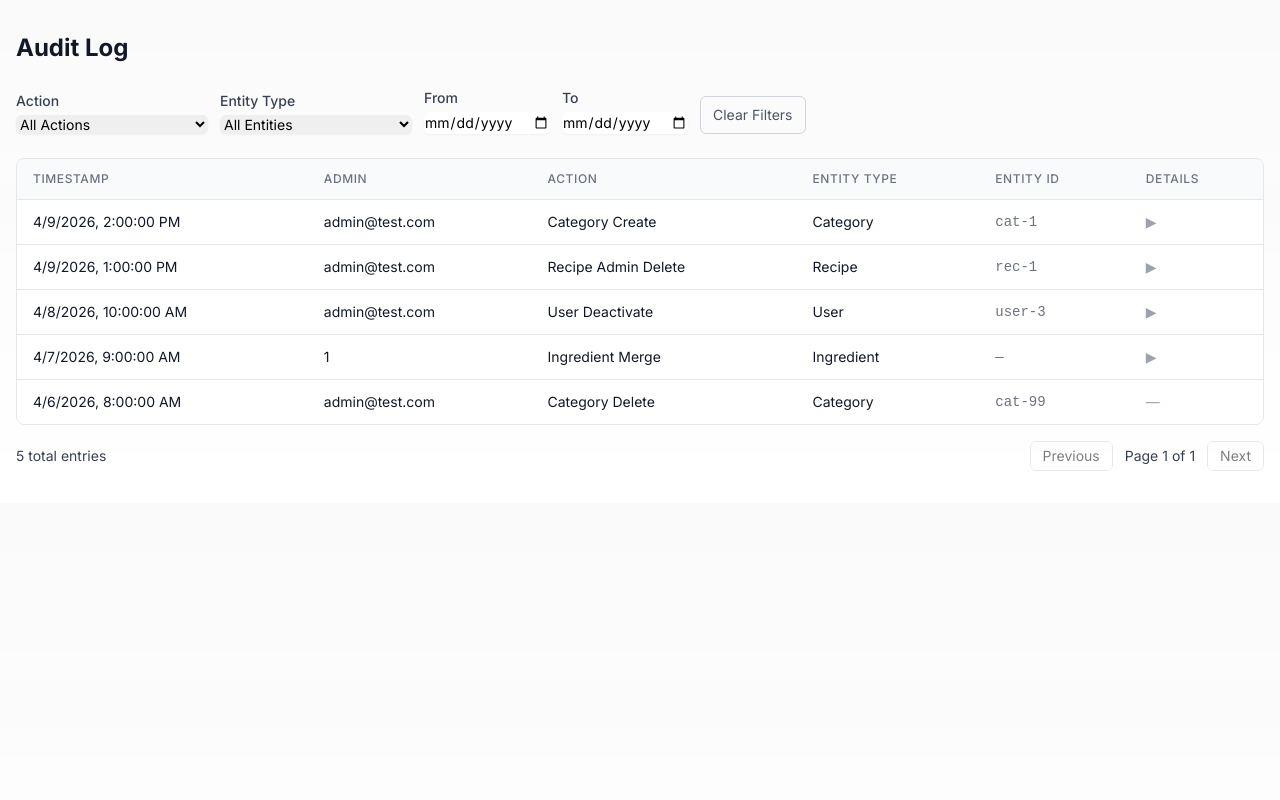
AuditLogPage › expands row to show details JSON
Expected: the text "5 total entries" is shown, [16, 446, 106, 466]
Step 1. Click the row that starts with "4/9/2026, 2:00:00 PM" → (640, 222), box [17, 200, 1263, 244]
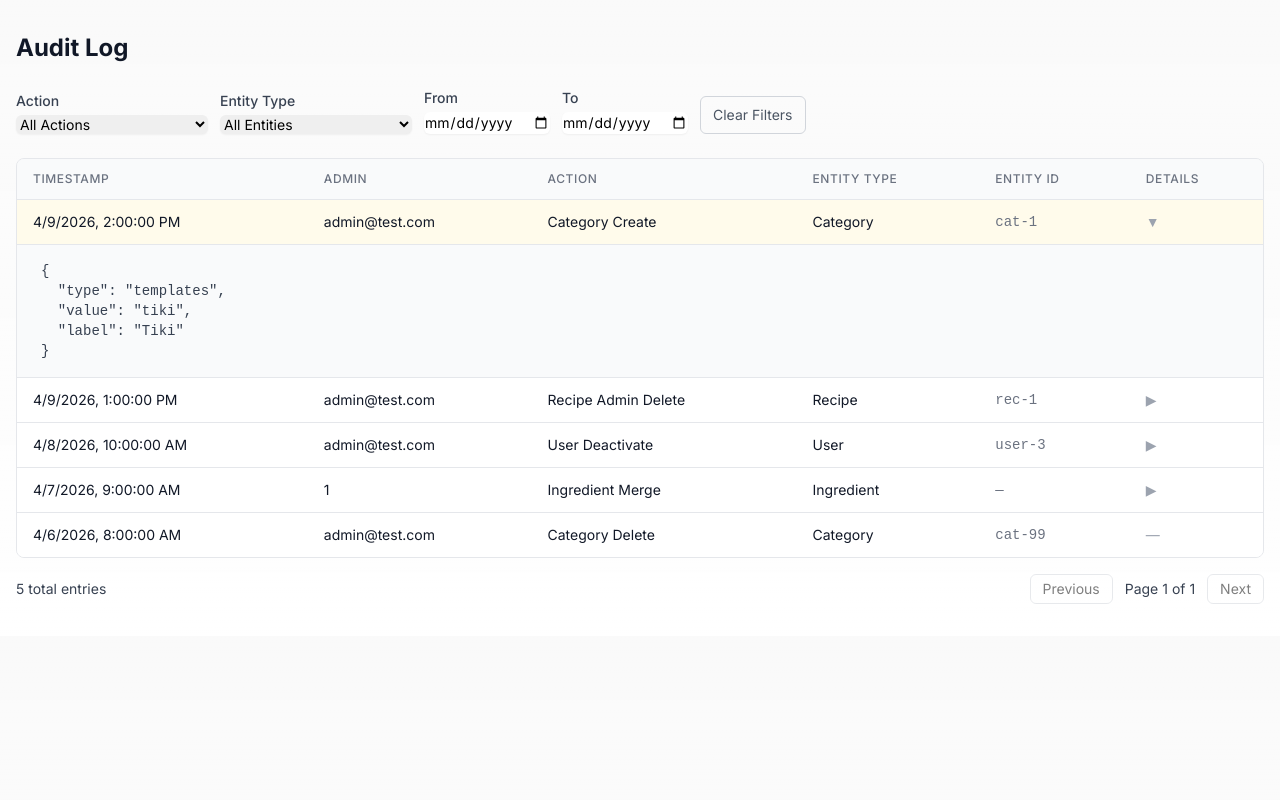
Result: the text "{ \"type\": \"templates\", \"value\": \"tiki\", \"label\": \"Tiki\" }" is shown at [41, 263, 226, 359]
